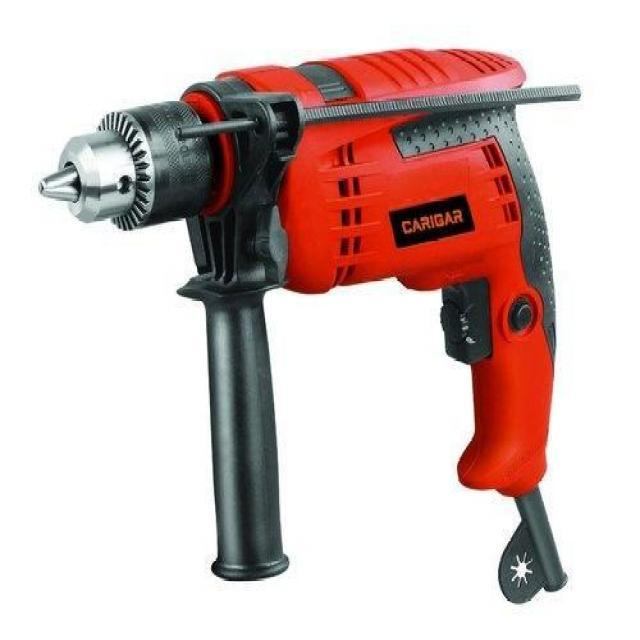drill: (38, 49, 584, 606)
